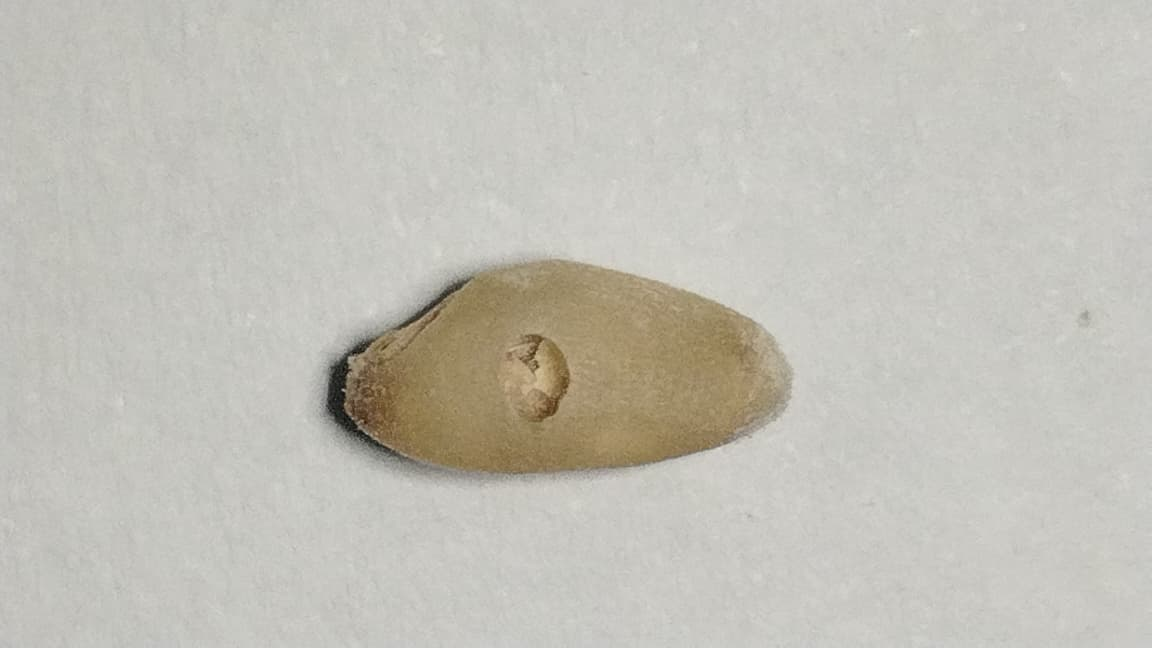damage: (326, 255, 789, 480)
insectdamage: (482, 322, 580, 435), (361, 284, 463, 354)
